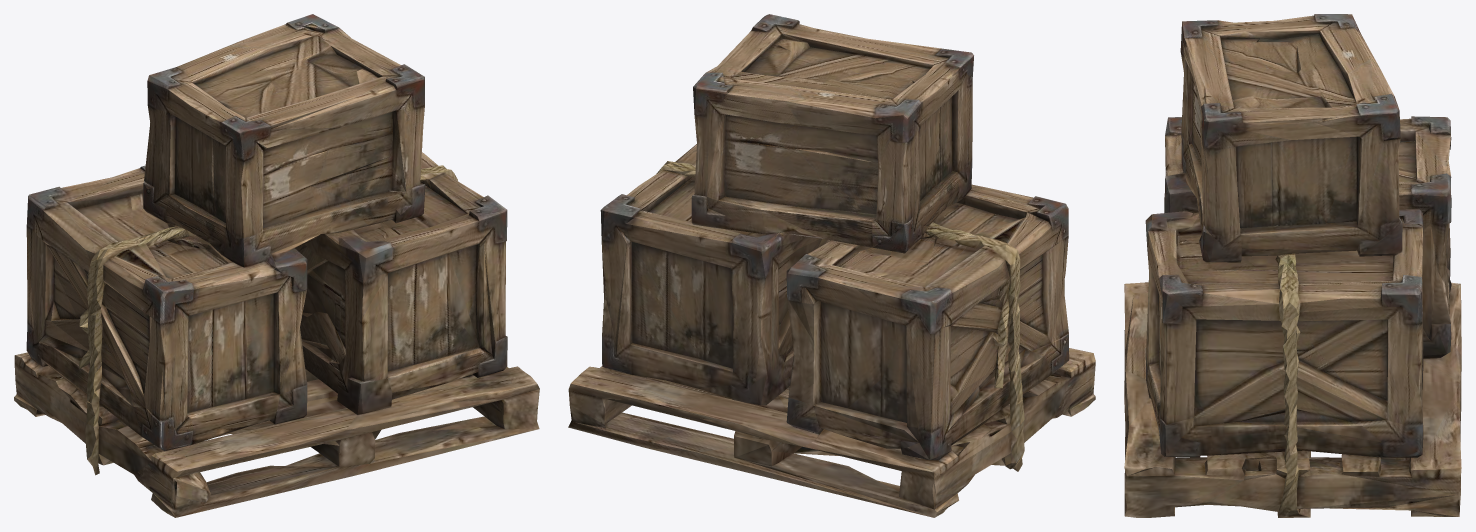
The model's file is prop-crates.glb.
3 renders of one model, left to right at view 1: azimuth 30°, elevation 25°; view 2: azimuth 150°, elevation 25°; view 3: azimuth 270°, elevation 25°, orthographic. The views are drawn at different scales.
Bounding box in the file's own units: 1.9 × 1.72 × 1.4.
1 material, 1 textured.
